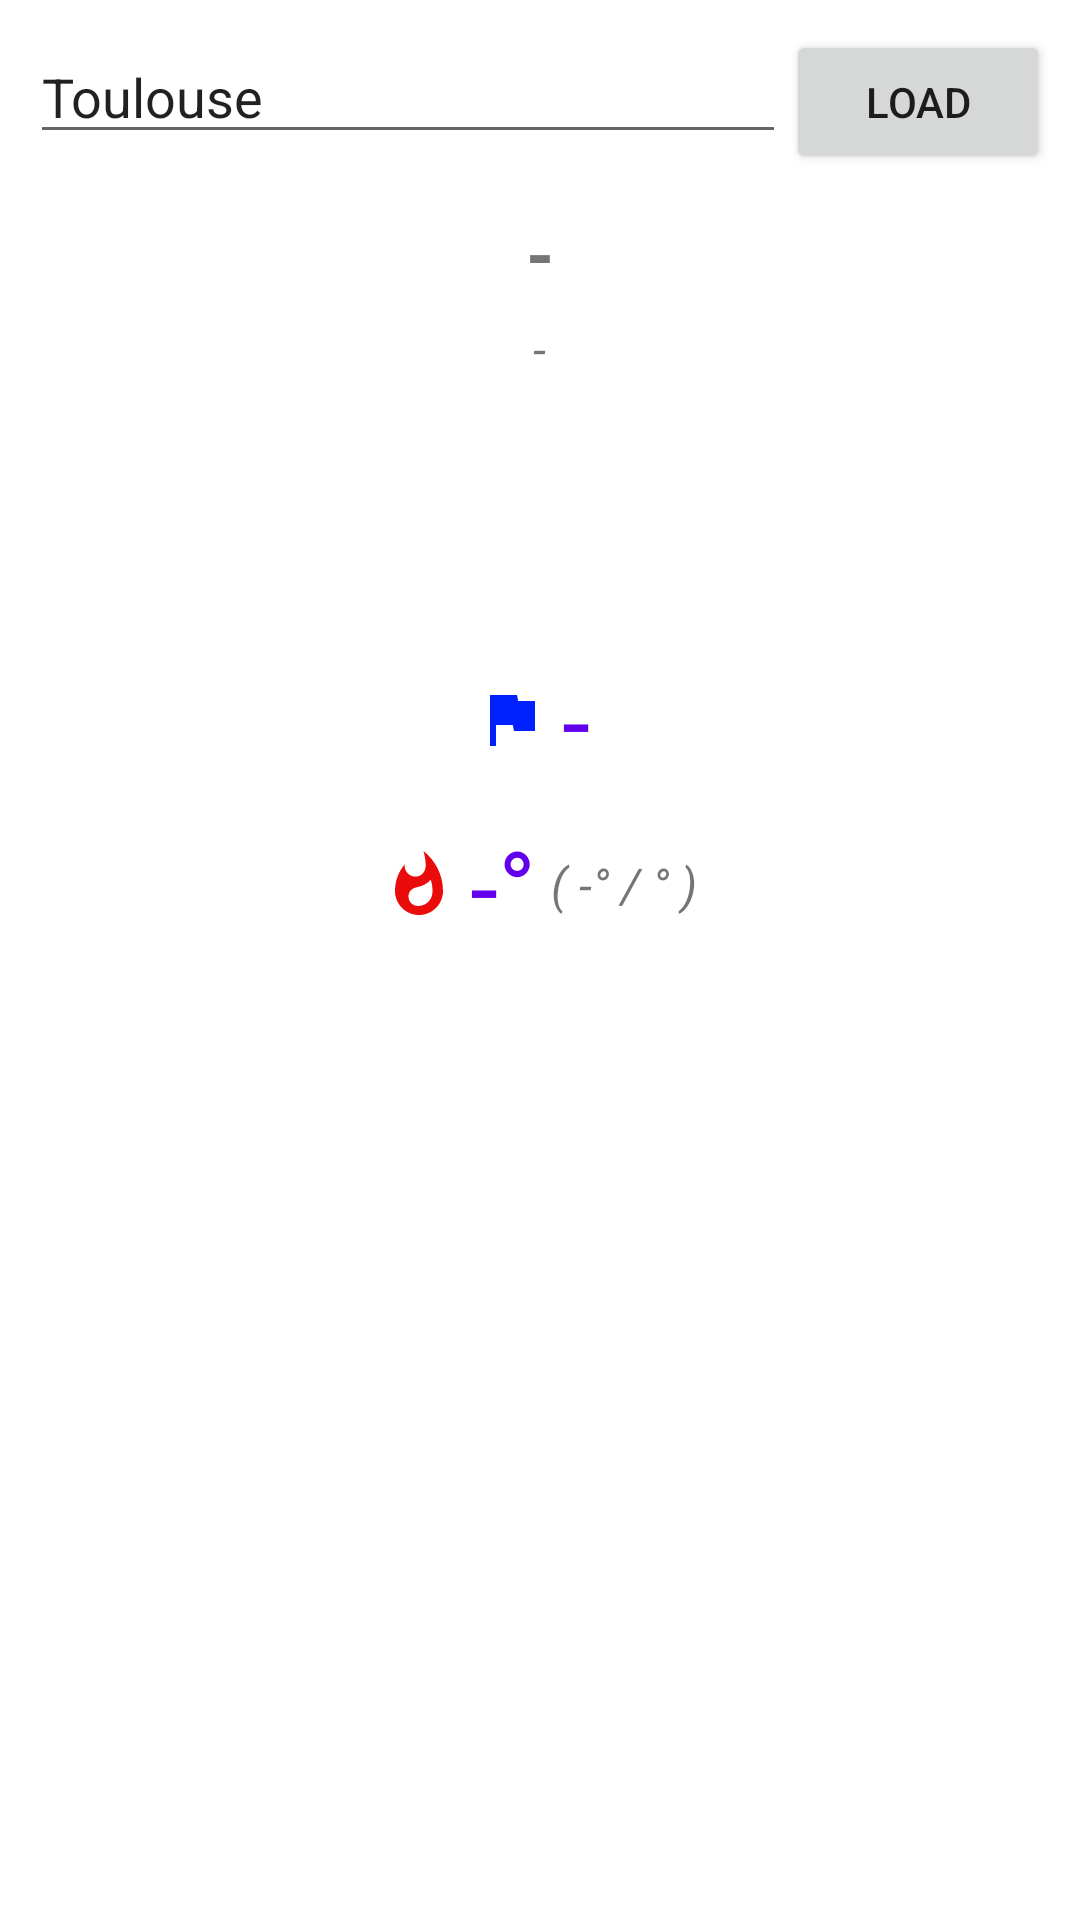

Where to tap for icons on this 1080*1920 app screen, as (x,y):
flag: (512,720)
whatshot: (419,883)
